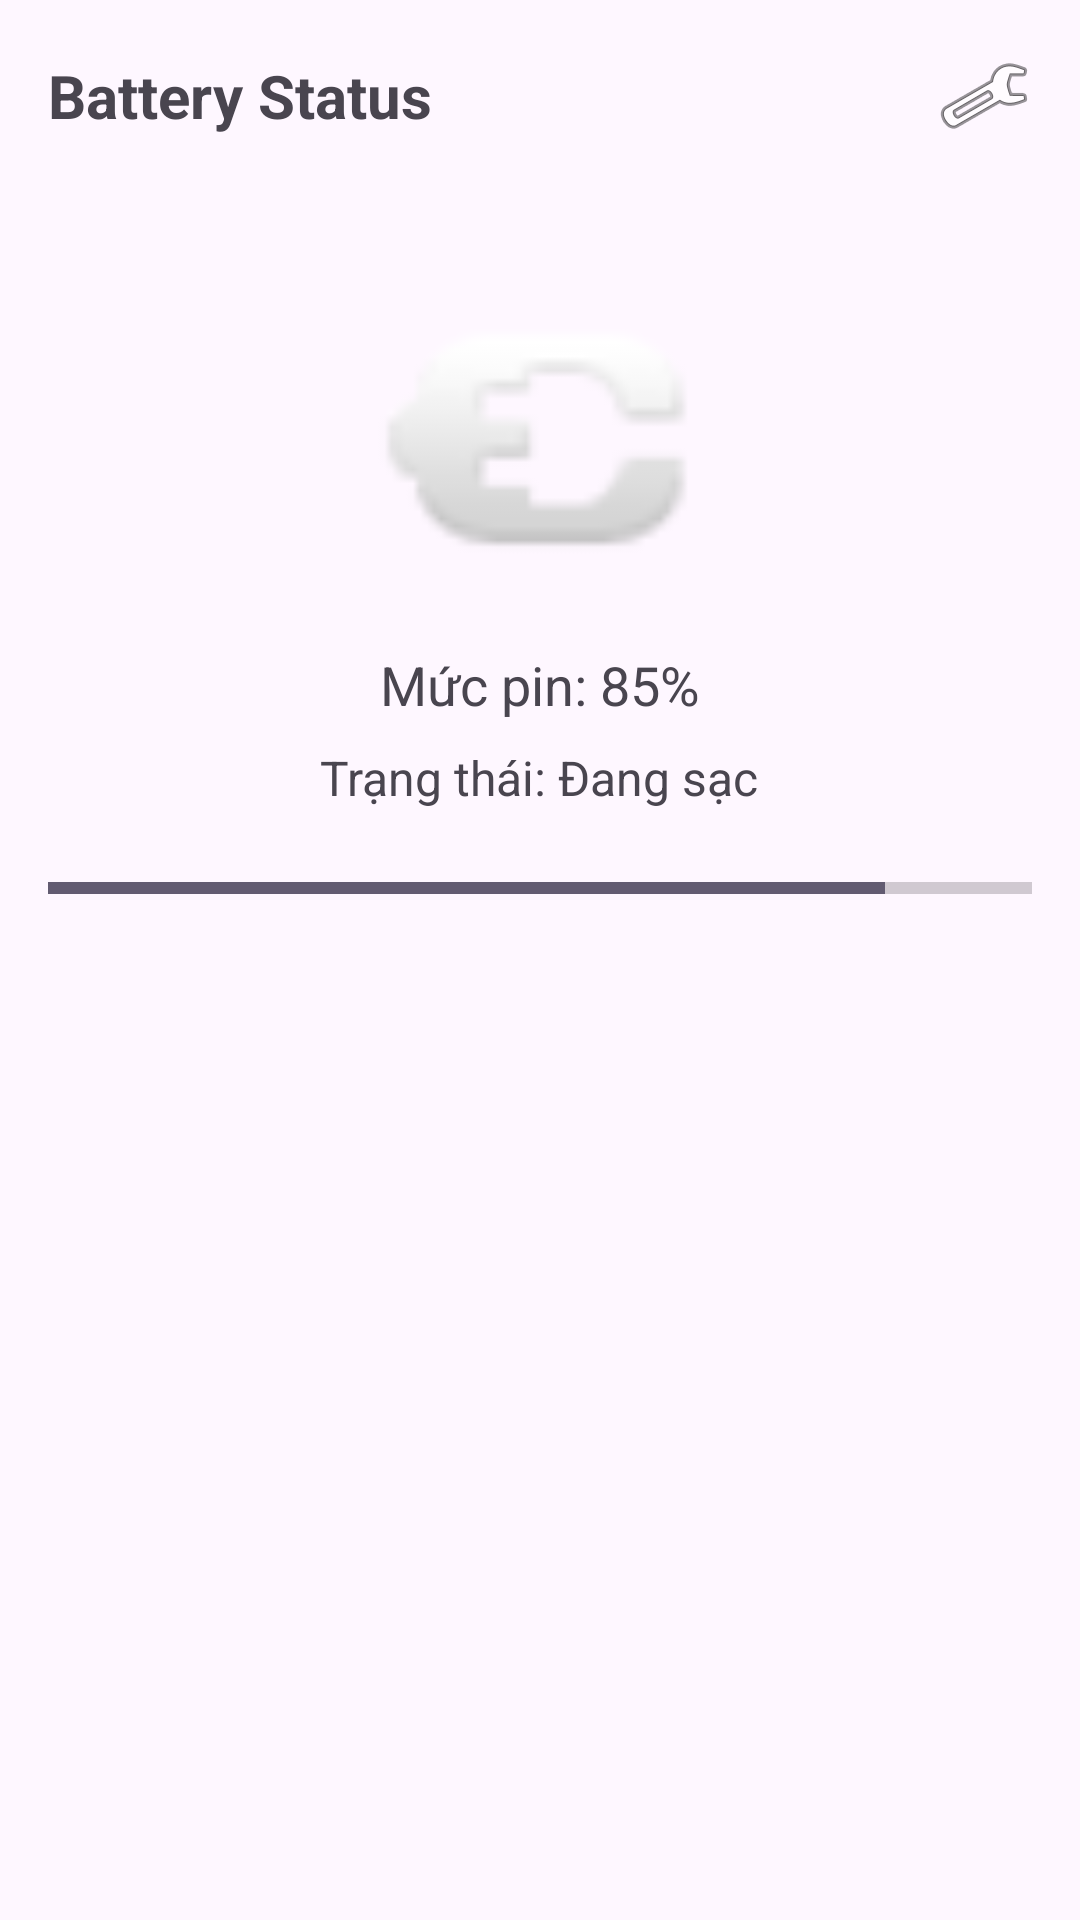

Named icons in this screenshot (1080 x 1920) and their centers, [x,y]:
Settings: [984,96]
